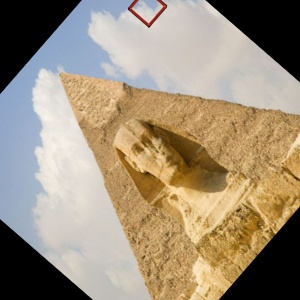square: (125, 1, 169, 30)
